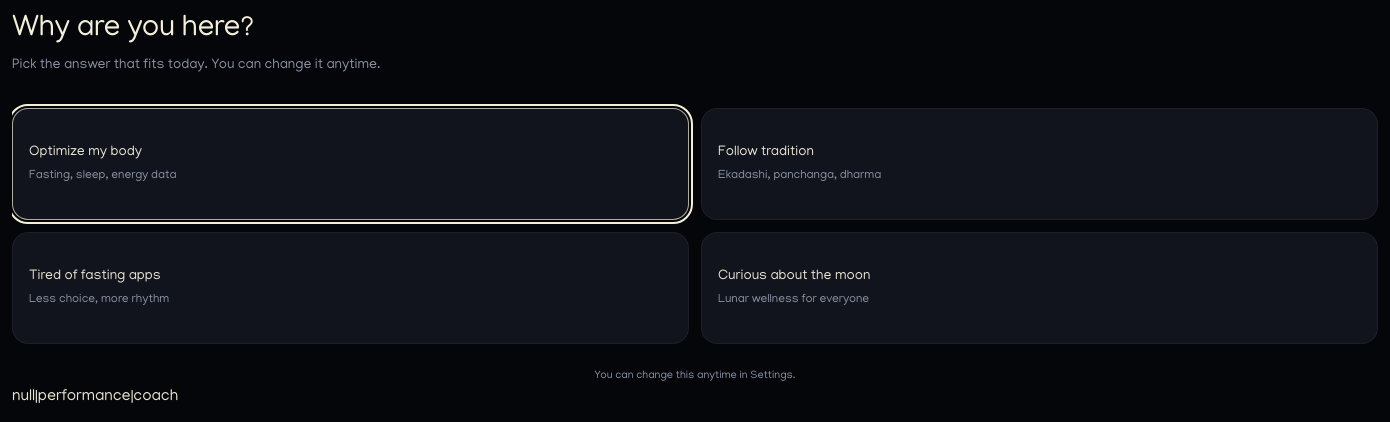
IntentRouter › persists optimize → performance + scientific
Click the radio button labelled "Optimize my body Fasting, sleep, energy data": (85, 152) [12,108,689,220]
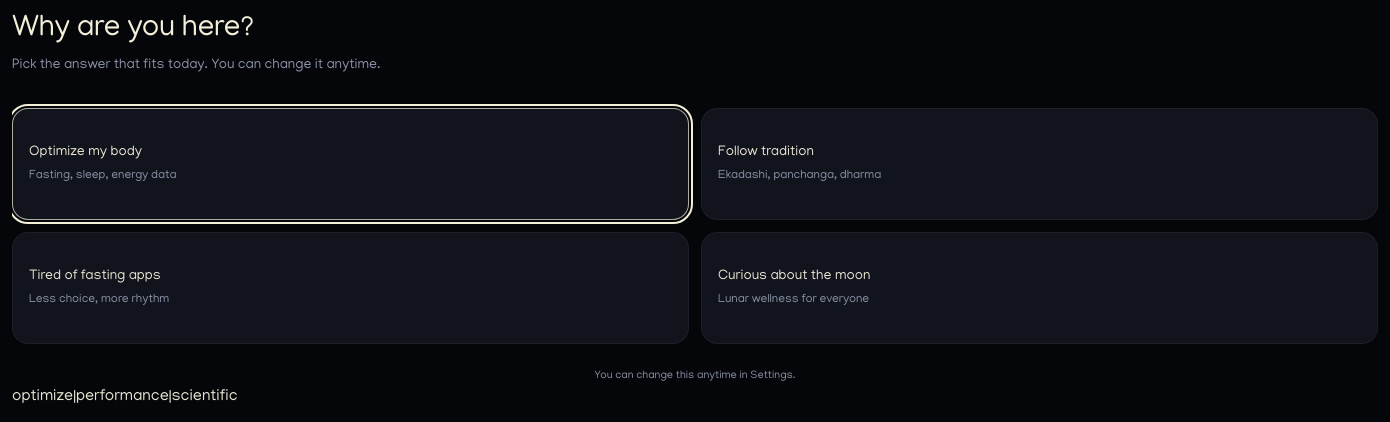
Result: the text with test id "prefs" reads "optimize|performance|scientific" at [12,388,238,406]
